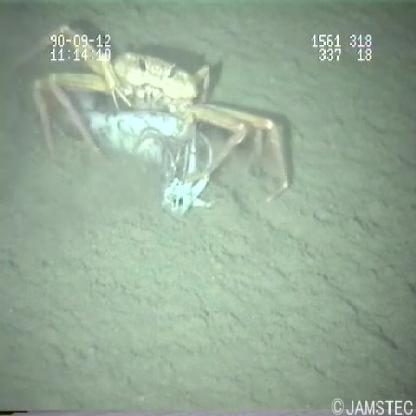Bio: (10, 22, 288, 222)
